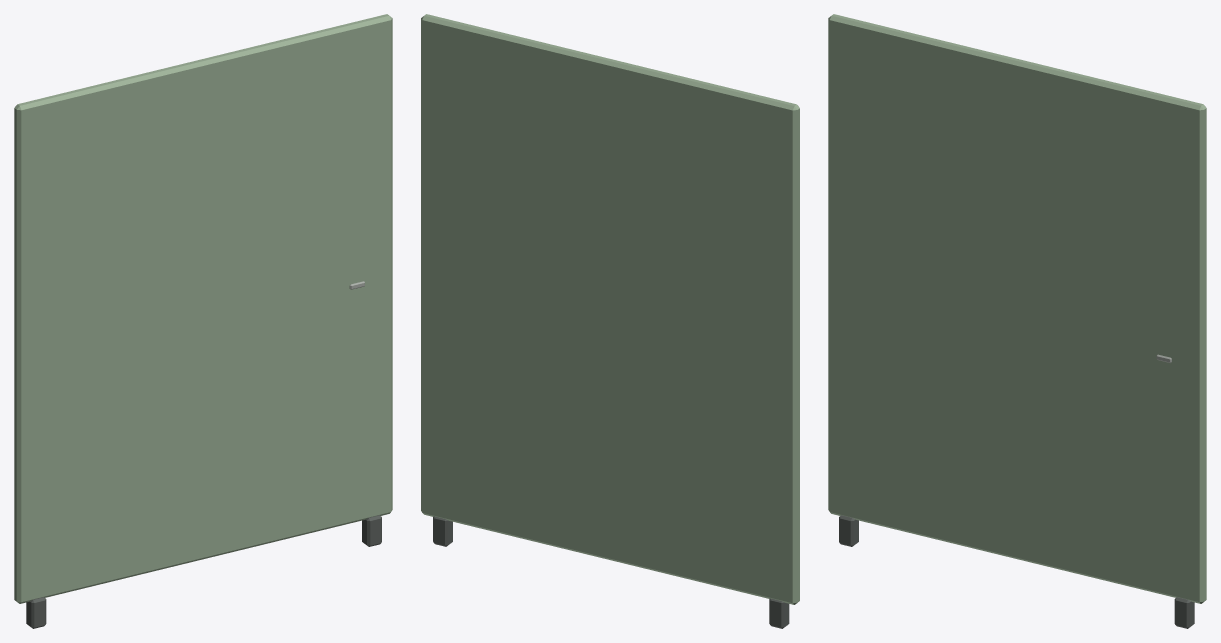
File: partition.glb
The picture shows the model from 3 angles, left to right: view 1: azimuth 30°, elevation 25°; view 2: azimuth 150°, elevation 25°; view 3: azimuth 330°, elevation 25°; orthographic projection.
Parts seen in each view (by area): view 1: FURN-partition; view 2: FURN-partition; view 3: FURN-partition.
Boxes of the visible parts, left/top/right/bottom form: FURN-partition: left=14, top=14, right=392, bottom=628; FURN-partition: left=421, top=14, right=799, bottom=628; FURN-partition: left=828, top=14, right=1206, bottom=628.
Size of the model in its own units: 1.5 by 2 by 0.05.
